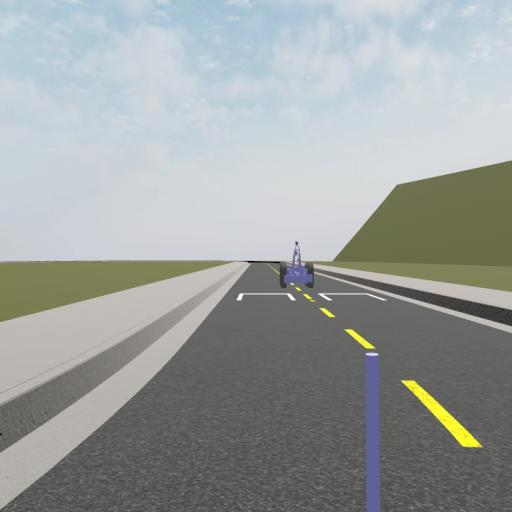ERP-42: (278, 243, 314, 287)
